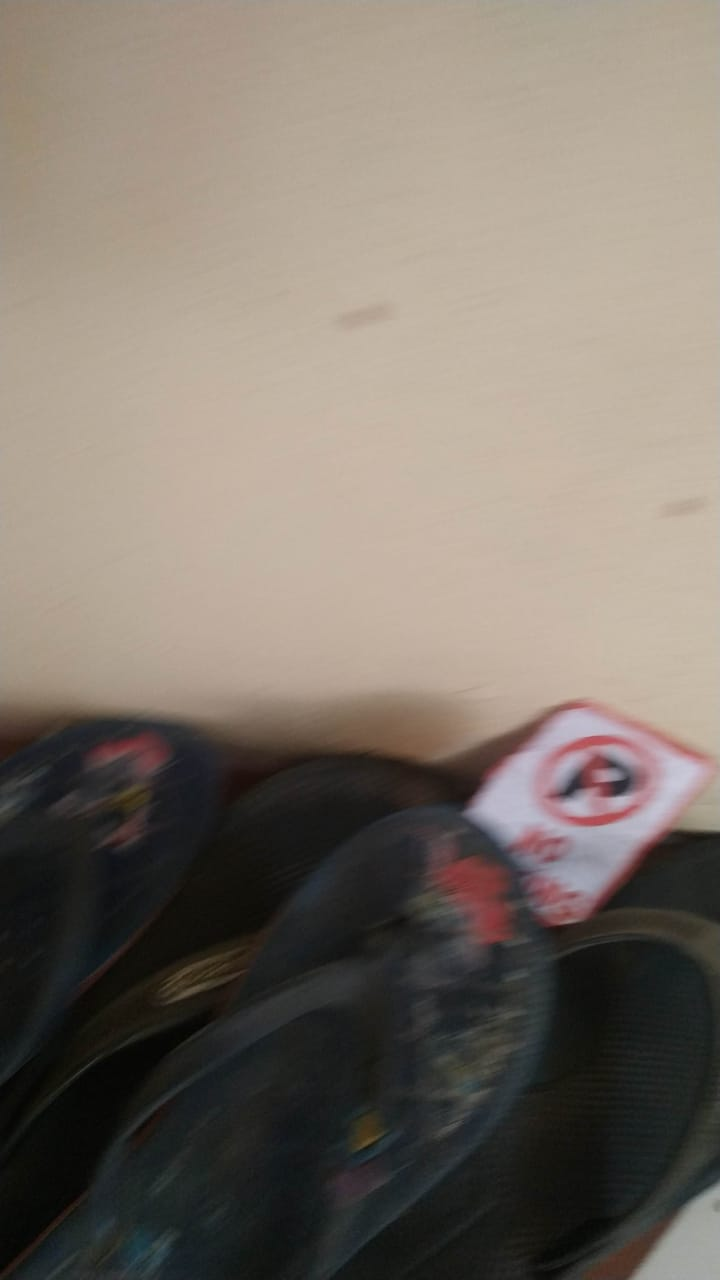NO PARKING: (447, 692, 720, 934)
